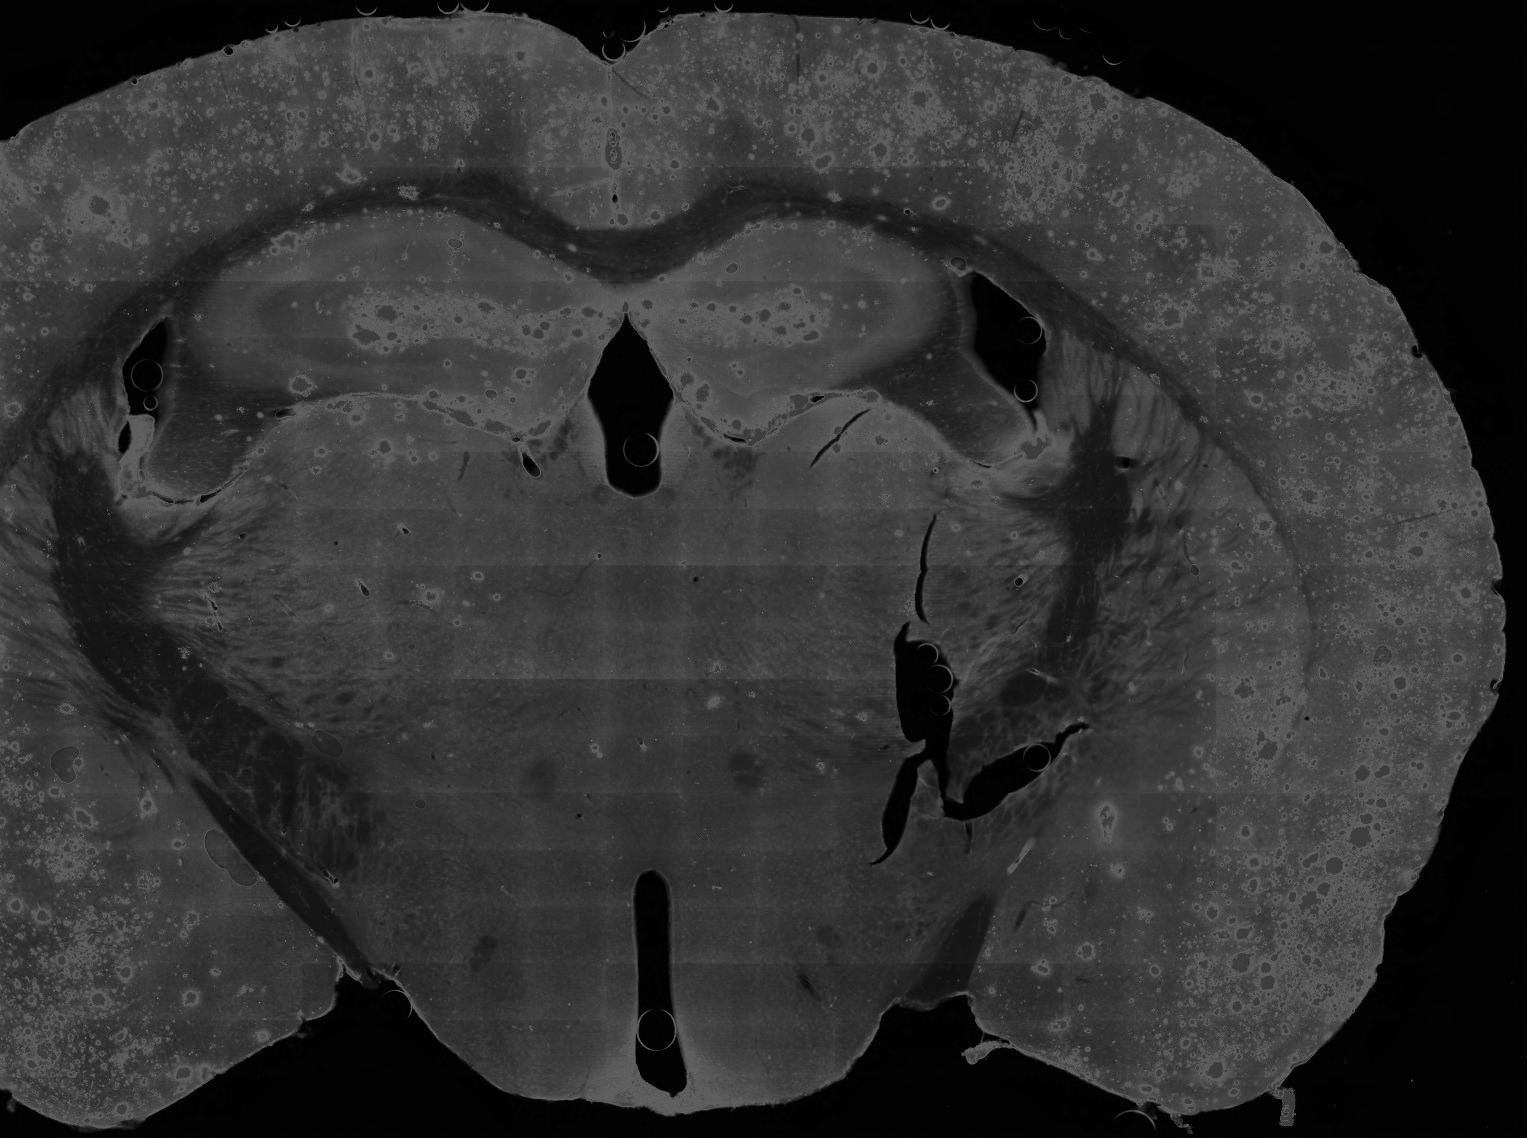Cerebral nuclei: (1053, 330, 1314, 810), (0, 383, 143, 838)
Hippocampal formation: (190, 207, 625, 441), (625, 218, 946, 441)
Hypothalamus: (637, 728, 1056, 1116), (303, 738, 671, 1116)
Retrosplenial area: (495, 20, 617, 227), (611, 19, 728, 228)
Somatosensory area: (823, 18, 1366, 418), (0, 17, 433, 426)
Thalamus: (140, 393, 636, 791), (634, 393, 1074, 793)
